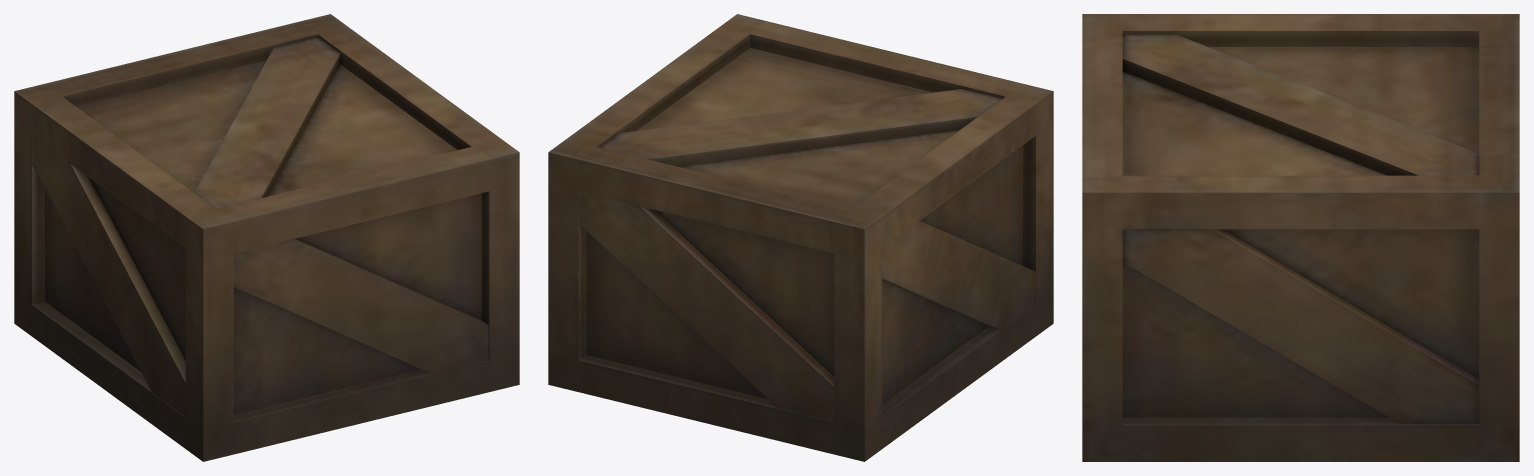
Rendered from SM_crate_01.glb.
The picture shows the model from 3 angles, left to right: view 1: azimuth 30°, elevation 25°; view 2: azimuth 150°, elevation 25°; view 3: azimuth 270°, elevation 25°; orthographic projection. The views are drawn at different scales.
Visible parts, largest first — view 1: SM_crate_01; view 2: SM_crate_01; view 3: SM_crate_01.
Part boxes in pixels (x1,y1,x2,y2): SM_crate_01: (14,14,519,461); SM_crate_01: (548,14,1053,461); SM_crate_01: (1082,14,1519,461).
Size of the model in its own units: 0.5949 by 0.4181 by 0.6154.
1 material, 1 textured.
